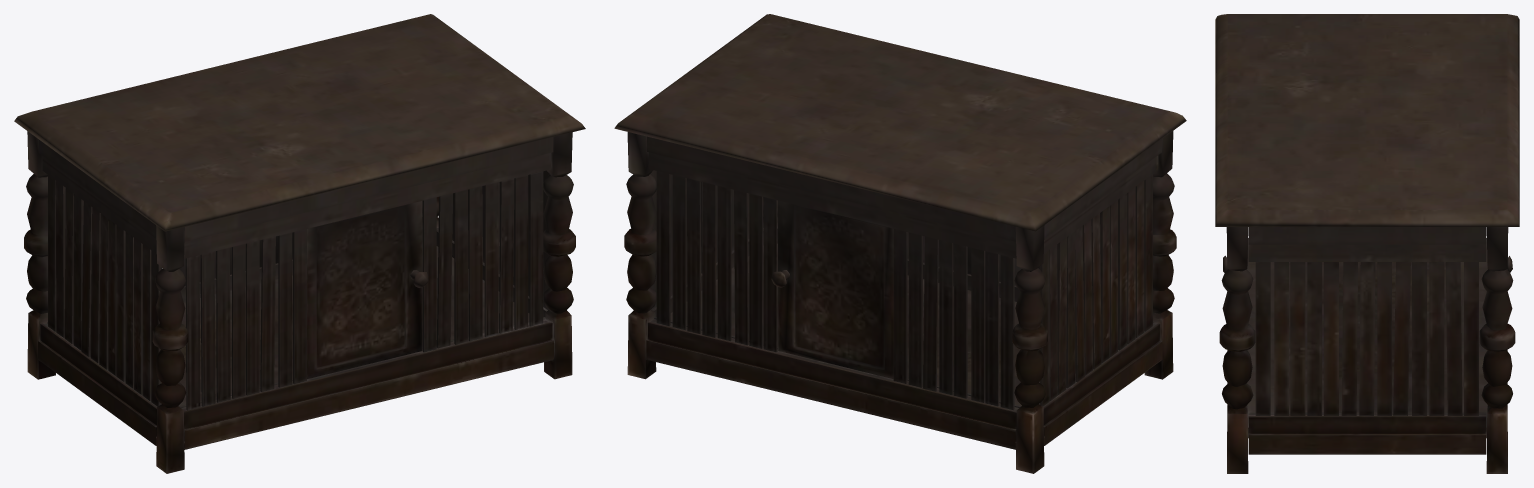
File: gallinera_table.glb
3 views of the same model, side by side, from view 1: azimuth 30°, elevation 25°; view 2: azimuth 150°, elevation 25°; view 3: azimuth 270°, elevation 25° (orthographic).
Visible parts, largest first — view 1: gallinera_table; view 2: gallinera_table; view 3: gallinera_table.
Boxes of the visible parts, left/top/right/bottom form: gallinera_table: left=14, top=14, right=585, bottom=473; gallinera_table: left=614, top=14, right=1186, bottom=473; gallinera_table: left=1215, top=14, right=1519, bottom=473.
Bounding box in the file's own units: 0.8266 × 0.4872 × 0.5132.
1 material, 1 textured.
